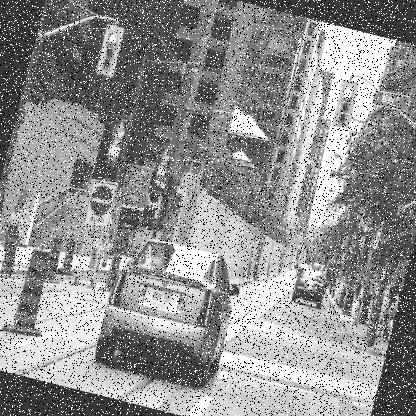Car: (92, 232, 244, 393), (289, 264, 329, 310)
